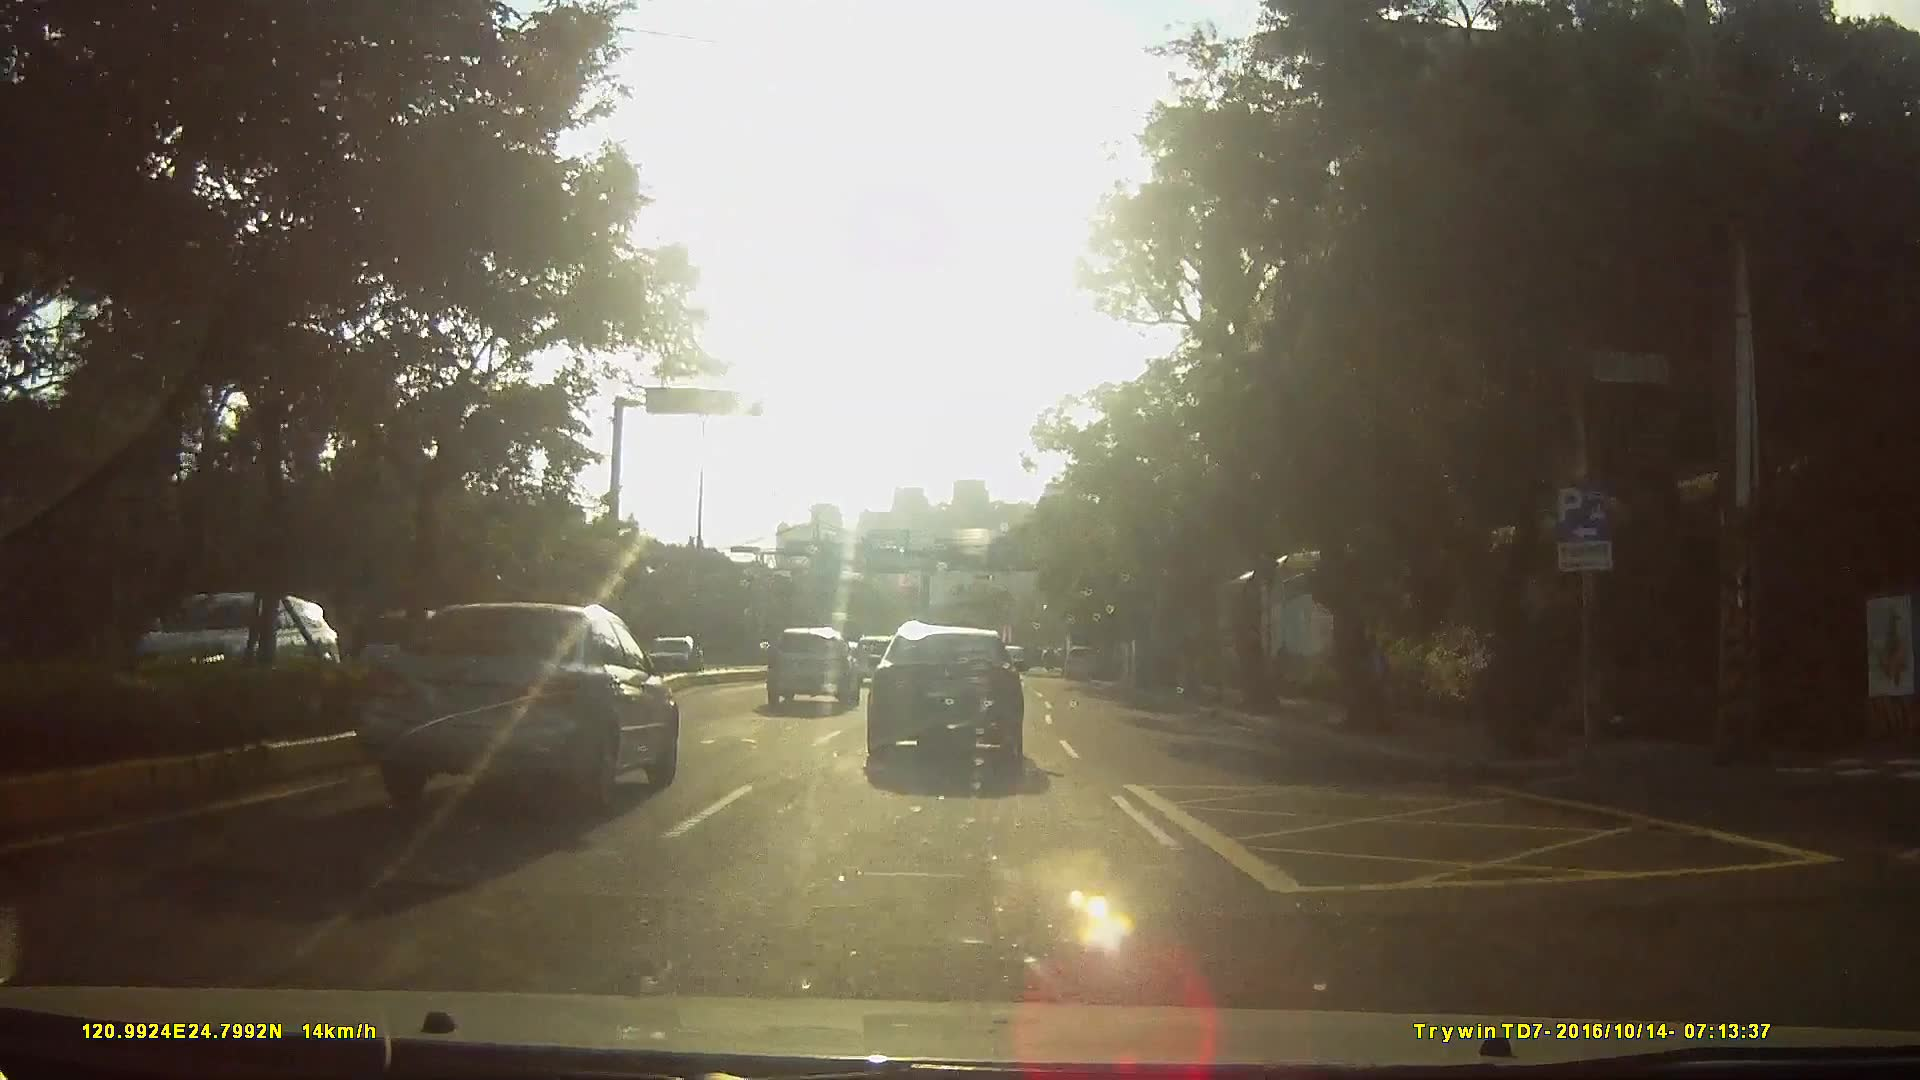vehicle: (357, 597, 678, 810), (109, 585, 343, 719), (864, 622, 1047, 771), (761, 622, 860, 707), (845, 632, 899, 687), (1060, 646, 1098, 683)
